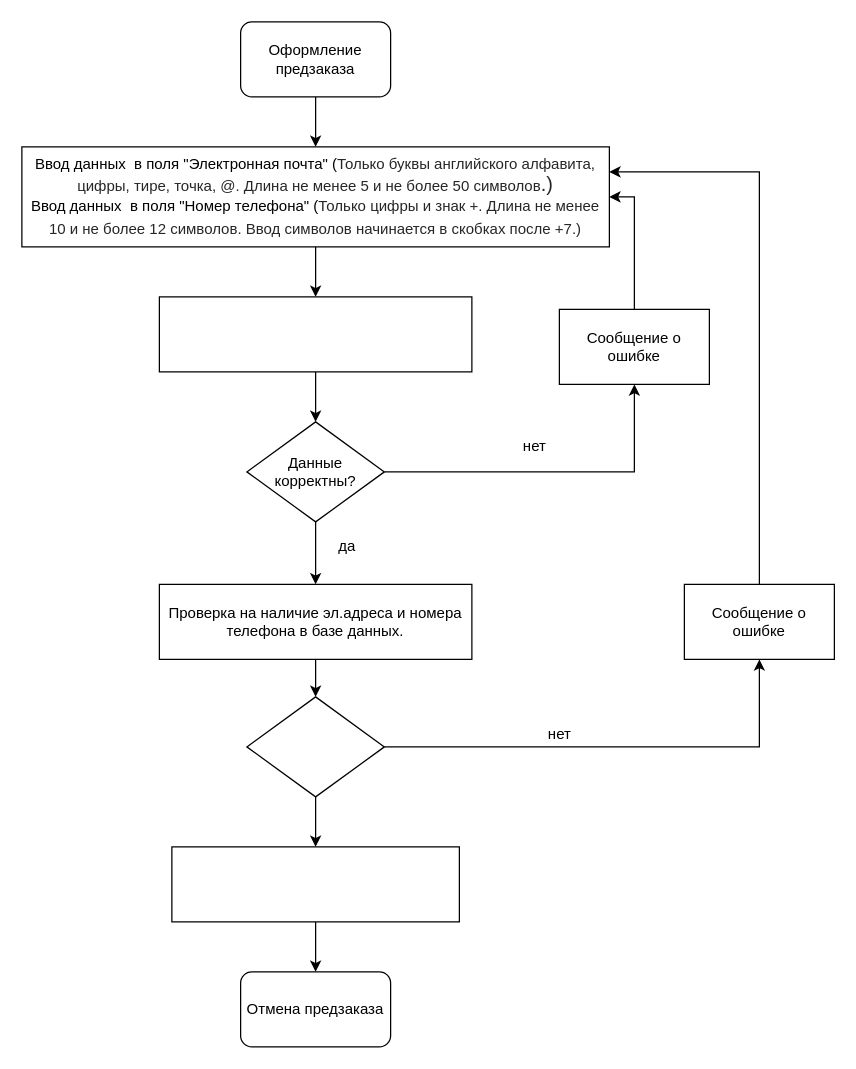
Image size: 856x1069. Some labels were removed from this diagram. Here are the shapes that lost their labels. From the top down, the box of each, then its label:
(158, 296, 472, 372): Проверка корректности заполнения полей.
(246, 696, 384, 797): Данные есть в базе?
(171, 846, 459, 922): Сообщение о отмене предзаказа
